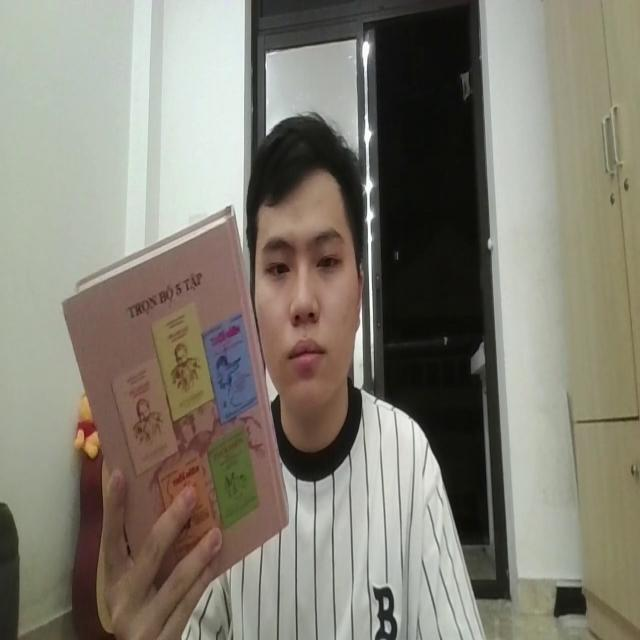book: (59, 199, 295, 579)
student: (100, 106, 490, 640)
